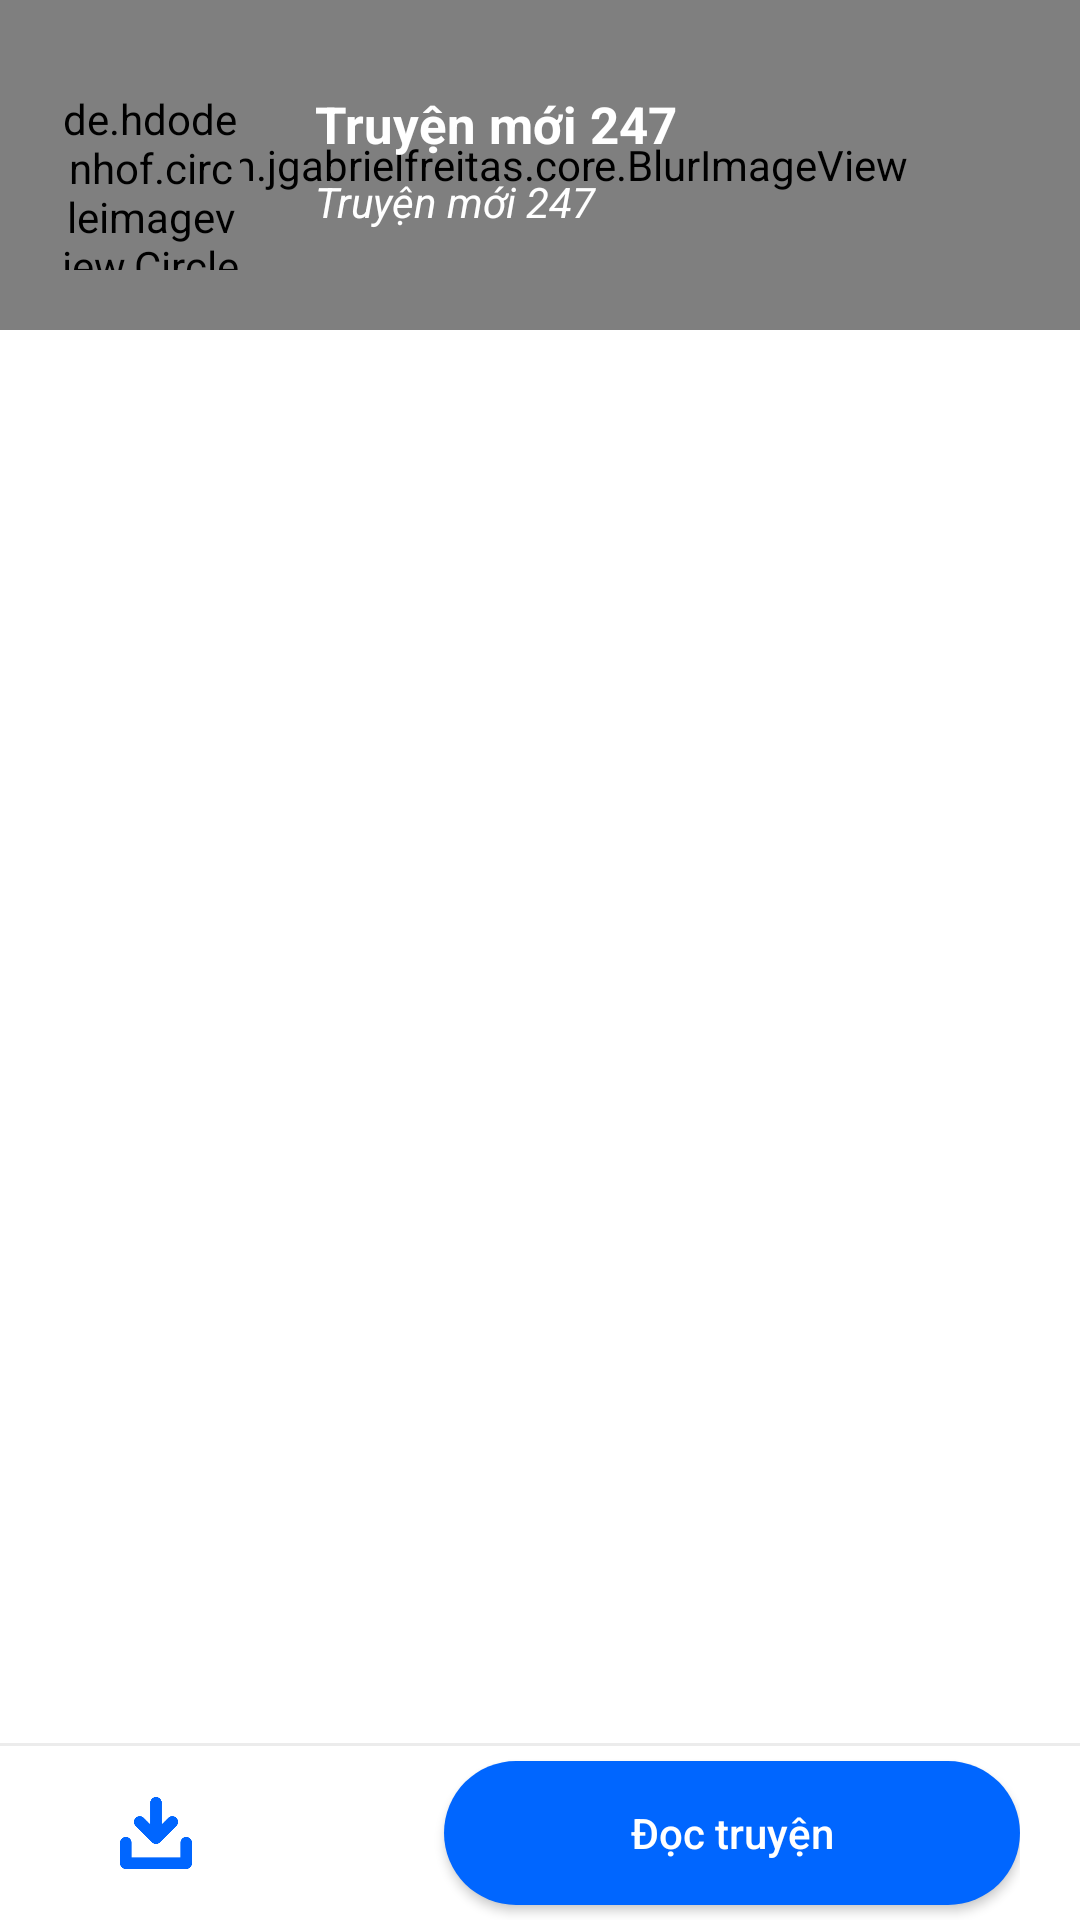

Screen size 1080×1920. Icon name, then its box in pixels as bbox(x1, y1, x2, y2):
download: bbox(120, 1797, 192, 1869)
